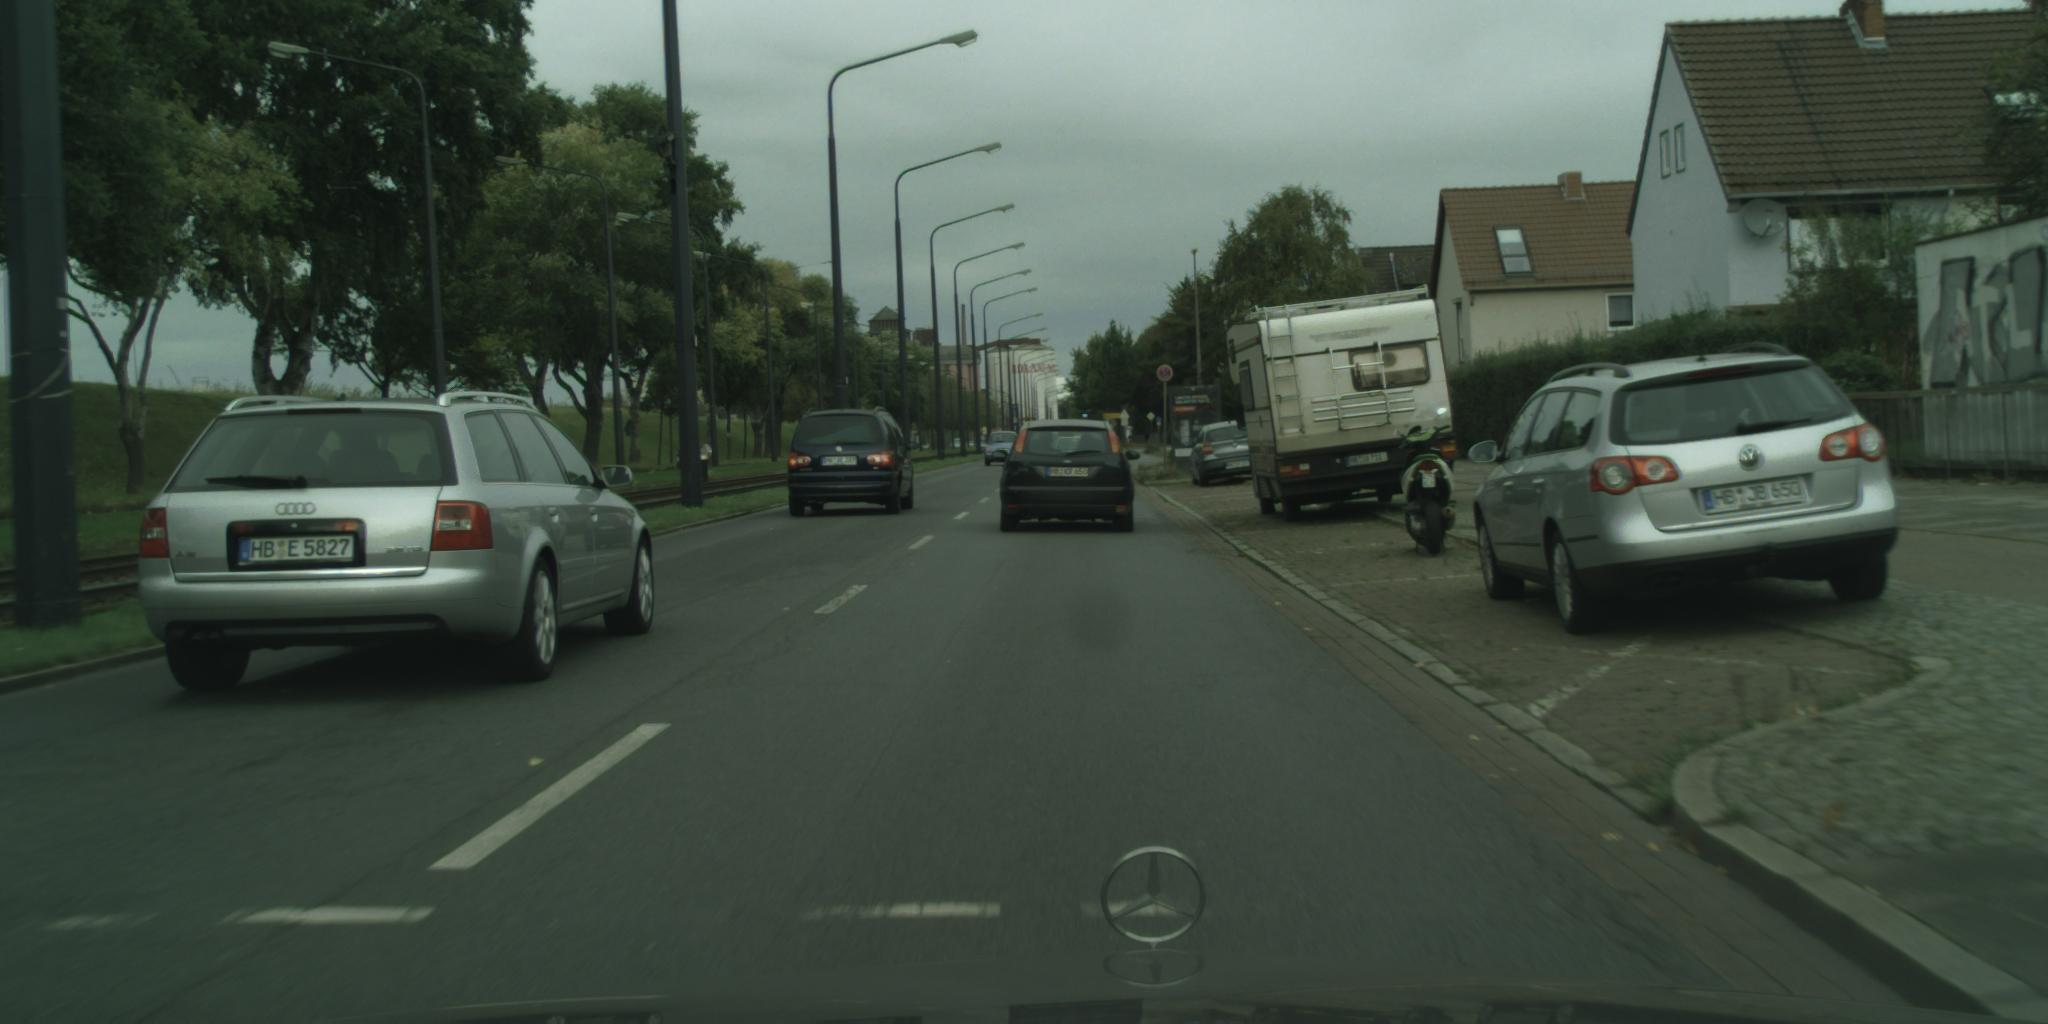car: (138, 392, 654, 697), (1468, 341, 1900, 636), (993, 421, 1143, 534), (788, 406, 922, 519), (1190, 415, 1259, 488), (986, 428, 1031, 468), (699, 444, 711, 483)
motorcycle: (1395, 408, 1458, 556)
